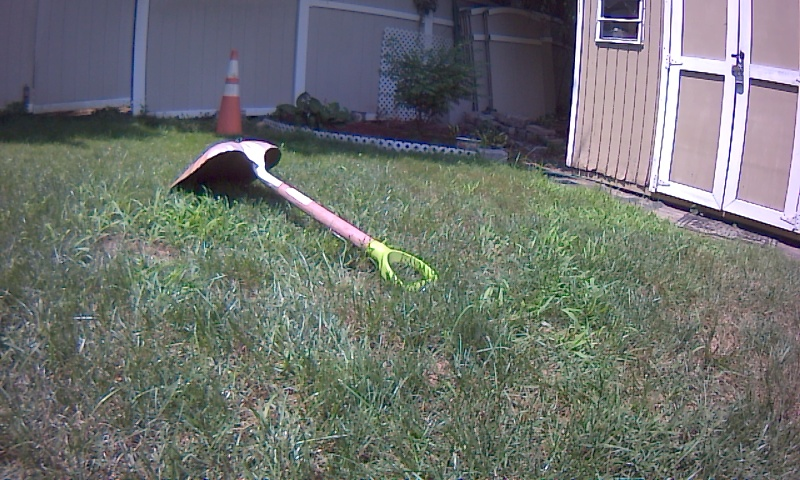shovel: (161, 124, 468, 315)
